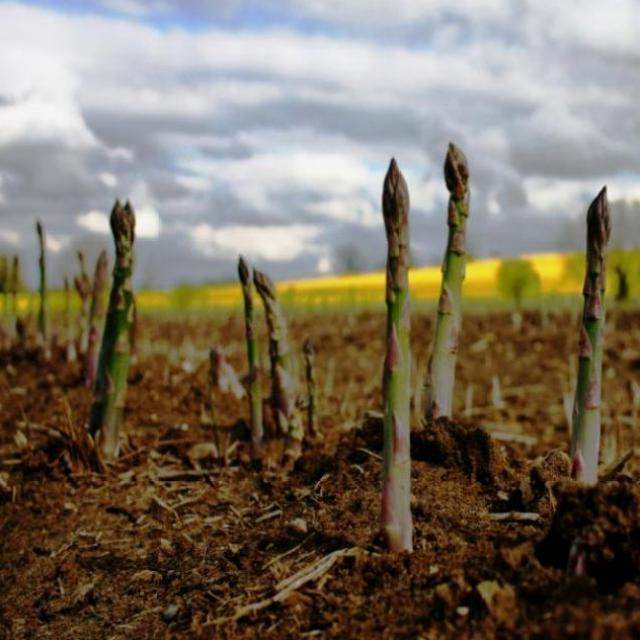aspargus: (381, 160, 414, 557), (87, 200, 136, 460), (572, 189, 613, 488), (429, 143, 469, 418), (254, 265, 296, 433)
